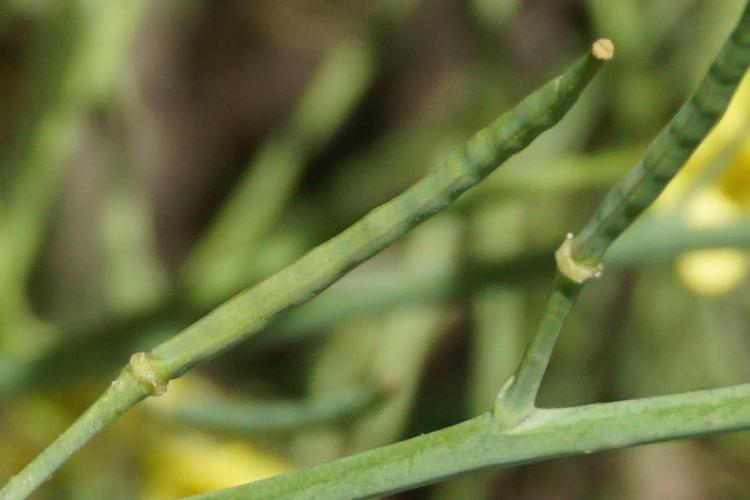pod: (132, 67, 615, 346)
